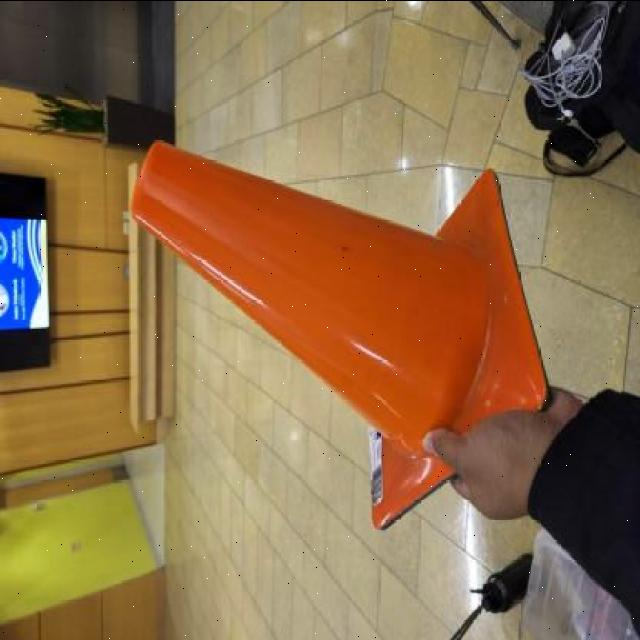traffic cone: (129, 137, 560, 553)
